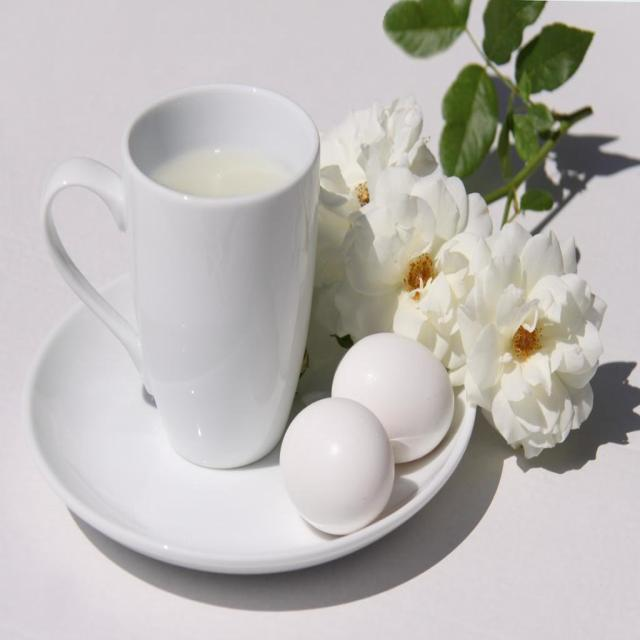non-organic waste: (22, 266, 497, 595)
